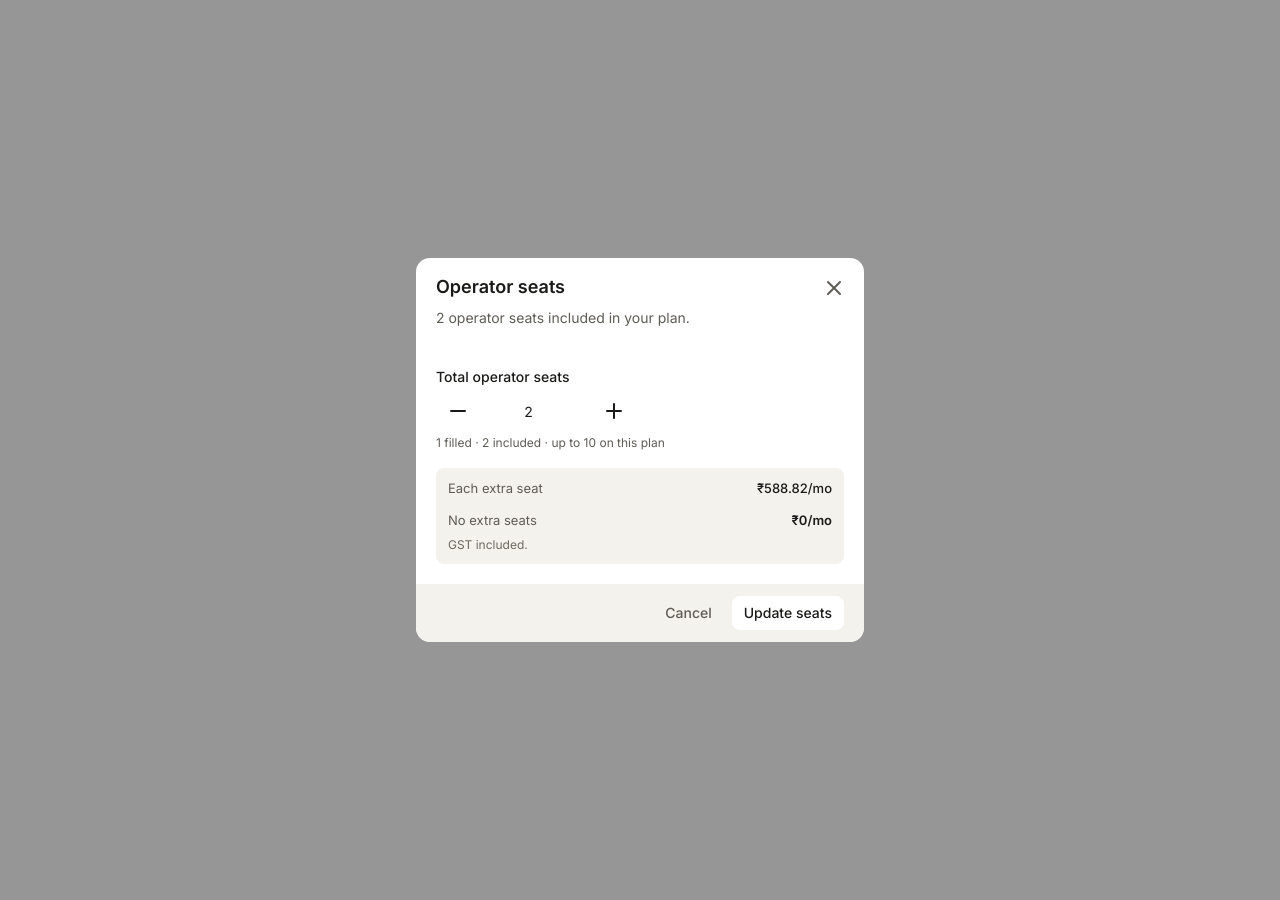
Scenario: the first seat purchase › reports a dismissed payment sheet as "not charged", not as a purchase
Replace the text in the number field with "3" at point(536, 411), box left=488, top=394, right=584, bottom=428
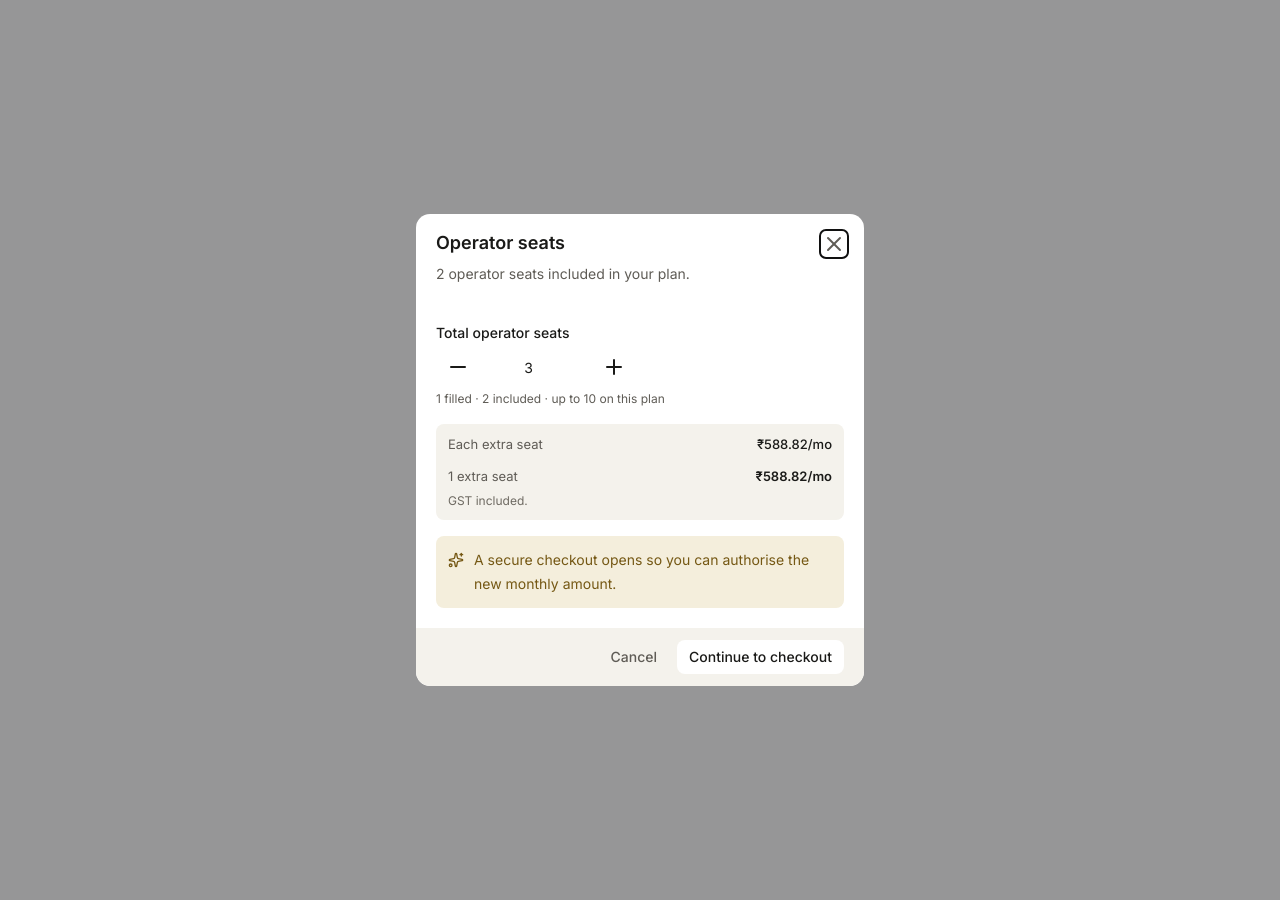
Click the button "Continue to checkout" at point(760, 657), box left=677, top=640, right=844, bottom=674
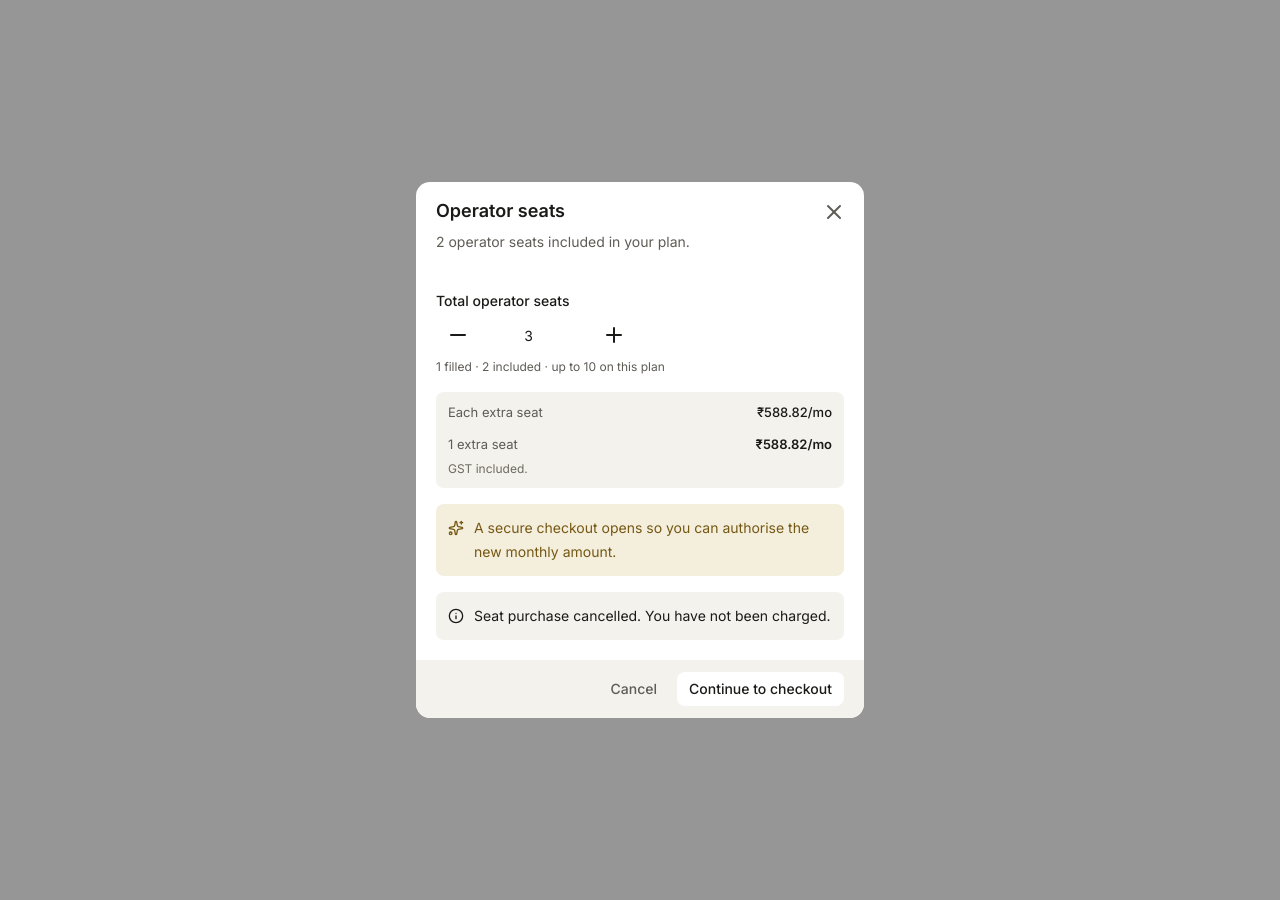
Expected: the text "Seat purchase cancelled. You have not been charged." is shown, left=474, top=604, right=832, bottom=628
